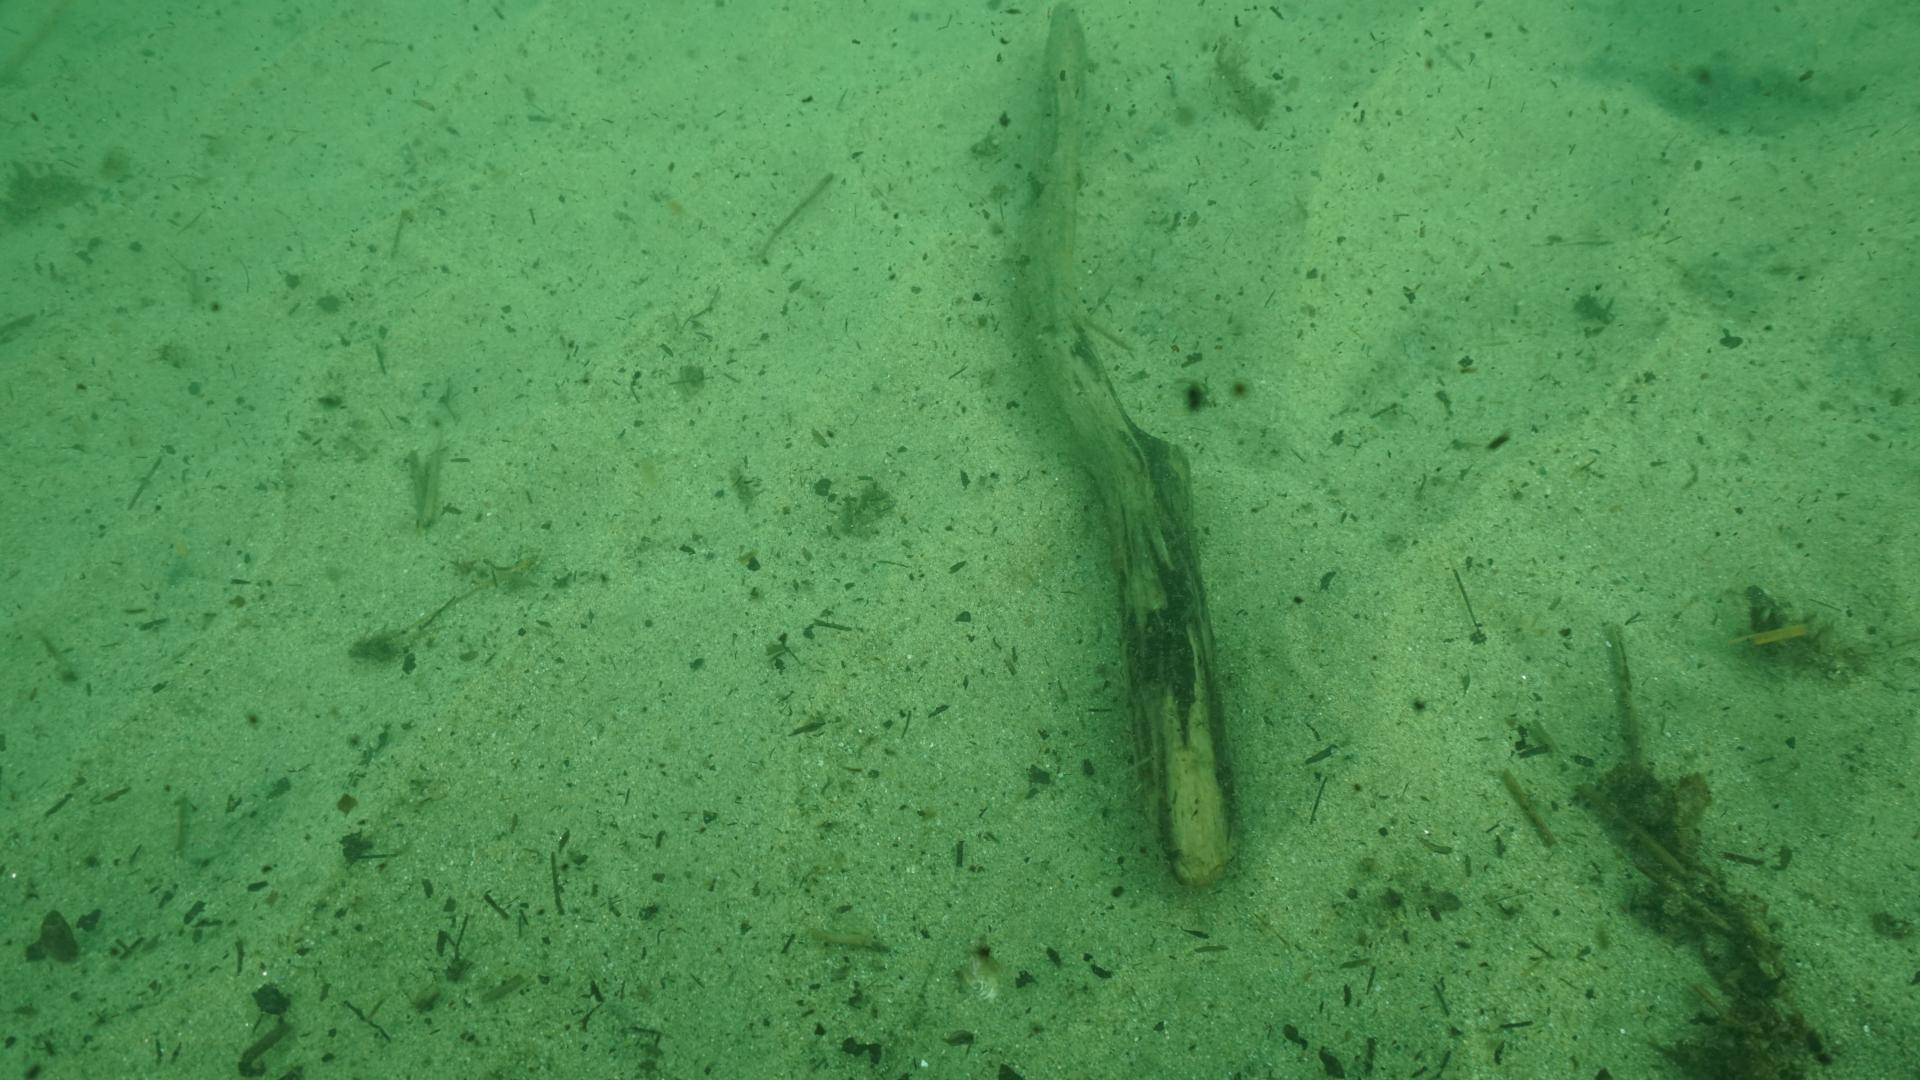wood: (1015, 0, 1240, 887)
